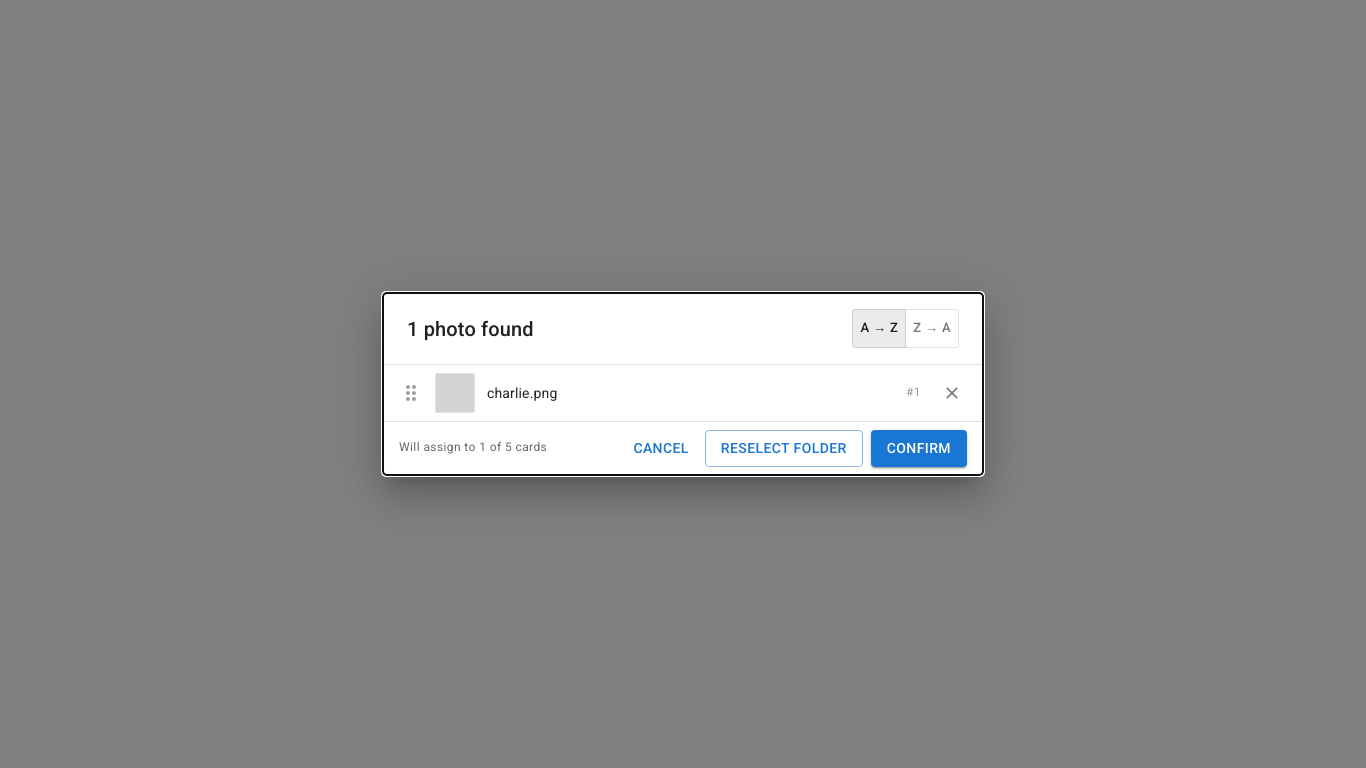
Test: BulkPhotoModal › disables Confirm once every photo has been removed
The image size is (1366, 768).
Step 1. Click the button named "Remove charlie.png" → [952, 393], box top-left (937, 378), bottom-right (967, 408)
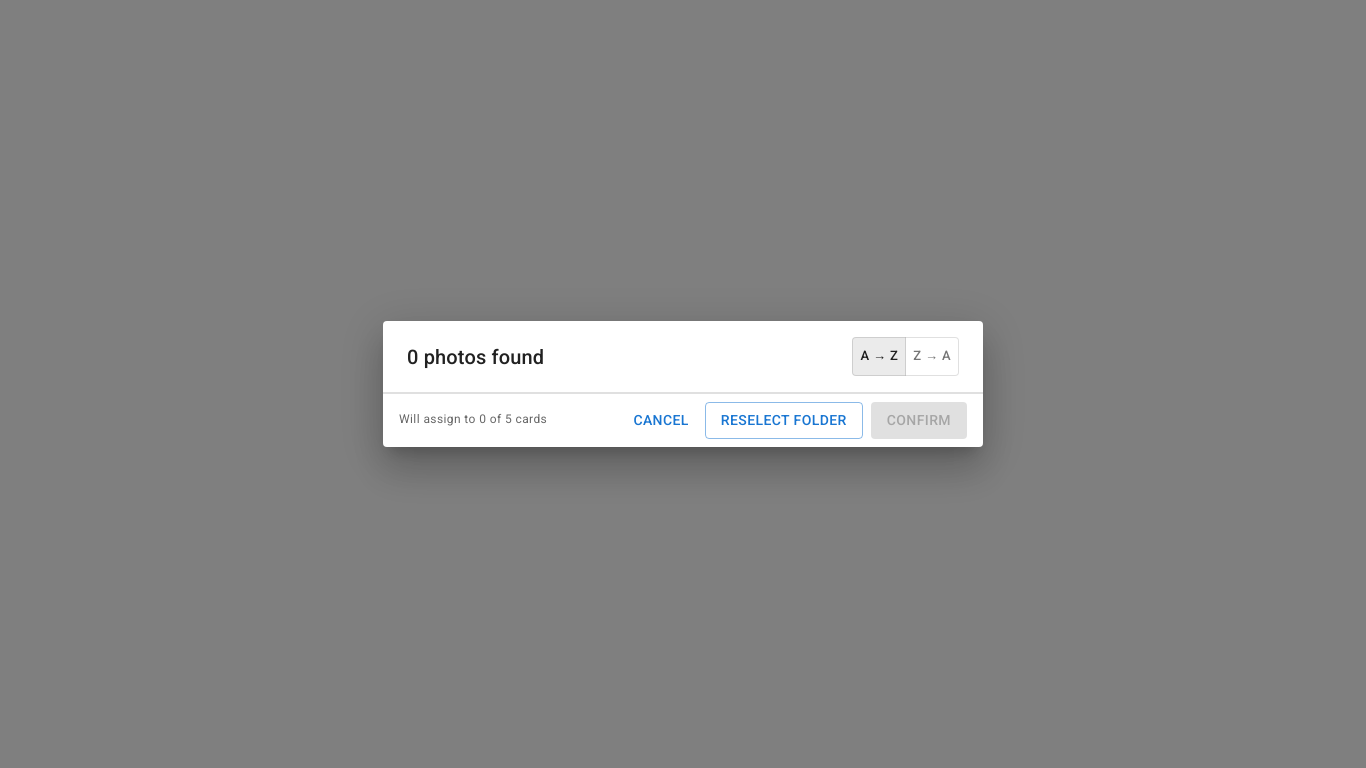
Expected: the button "Confirm" is disabled, top-left (871, 402), bottom-right (967, 439)
